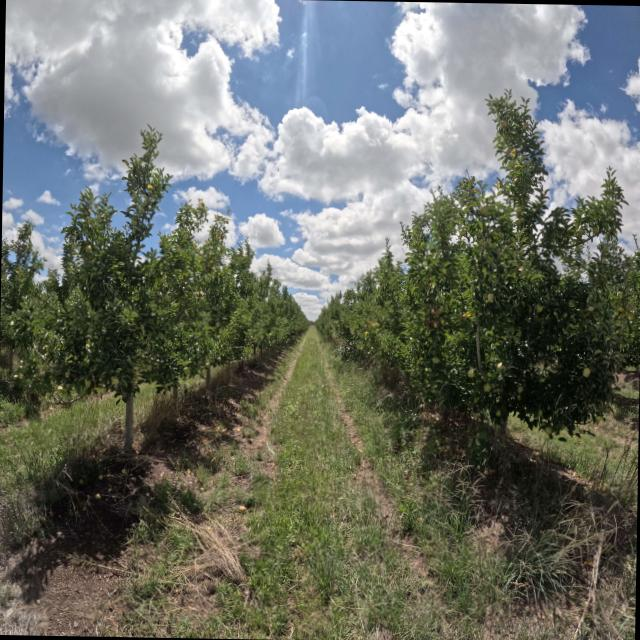-FireBlight-: (426, 304, 441, 331), (437, 300, 440, 306), (426, 297, 429, 301)
